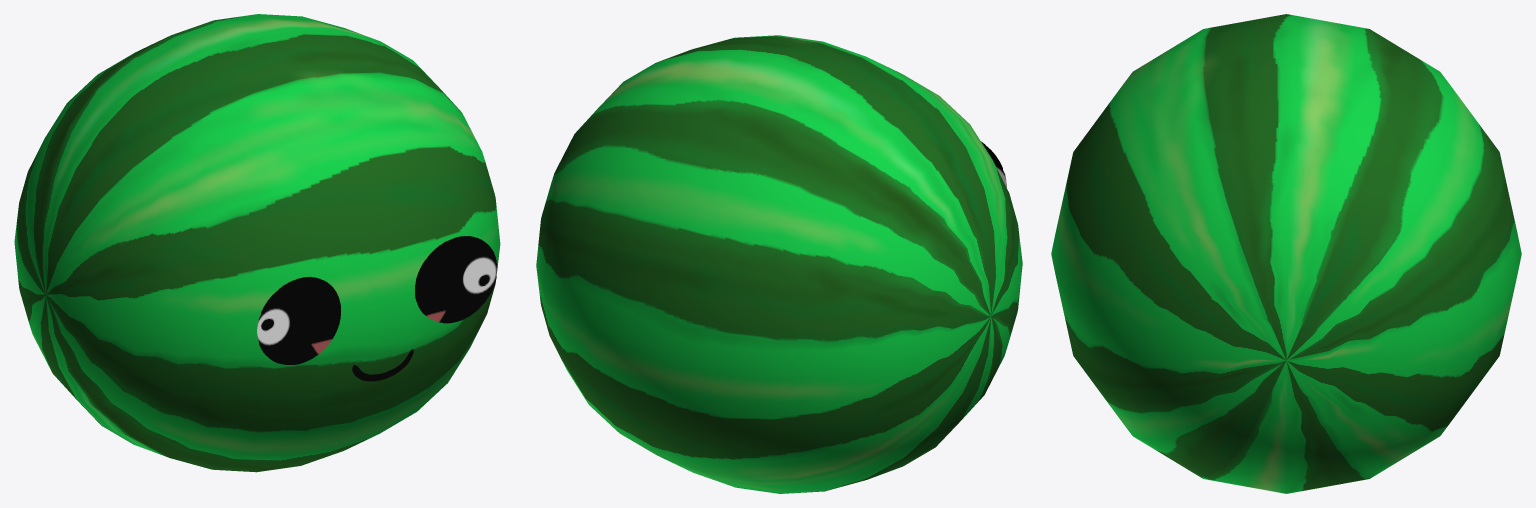
Rendered from Melon_000000.obj.
3 views of the same model, side by side, from view 1: azimuth 30°, elevation 25°; view 2: azimuth 150°, elevation 25°; view 3: azimuth 270°, elevation 25° (orthographic). The views are drawn at different scales.
Visible parts, largest first — view 1: Melon_low.001_Sphere.003, Plane; view 2: Melon_low.001_Sphere.003; view 3: Melon_low.001_Sphere.003.
Boxes of the visible parts, <box> form: Melon_low.001_Sphere.003: <box>14,14,500,472</box>; Plane: <box>257,236,497,381</box>; Melon_low.001_Sphere.003: <box>536,35,1022,493</box>; Melon_low.001_Sphere.003: <box>1051,14,1521,493</box>.
Size of the model in its own units: 2.14 by 2 by 2.
